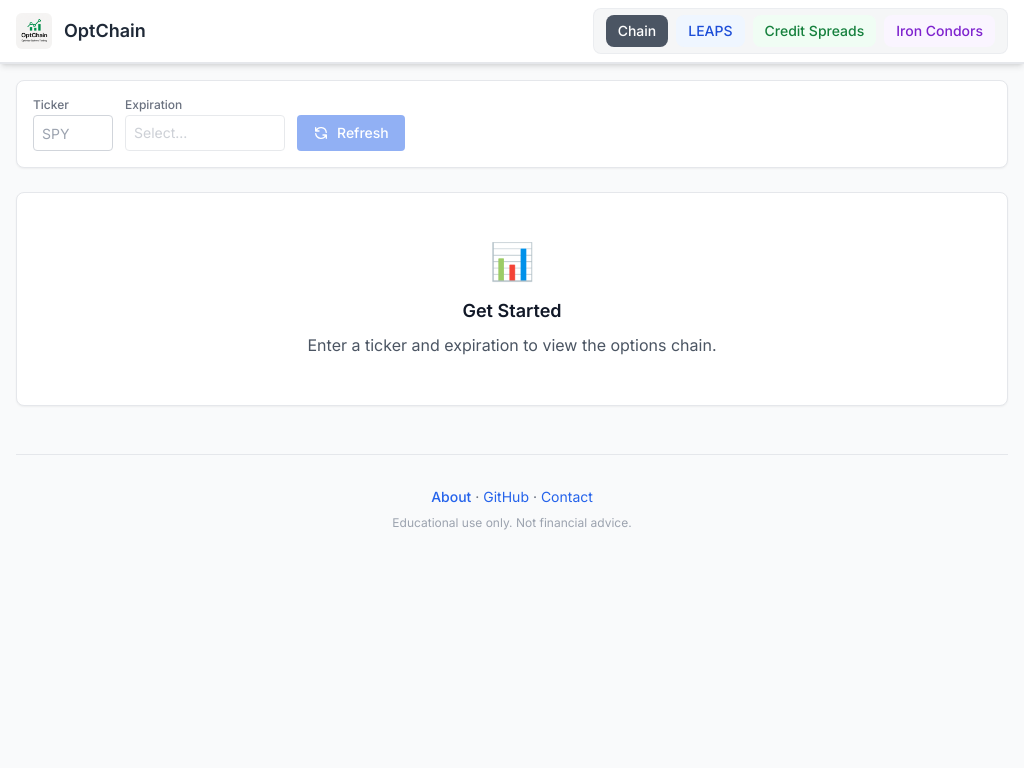
Test: ChainAnalysisPage - Ticker Input › should filter non-alphabetic characters
Type "spy123" into the field with placeholder "SPY" at (73, 133), box [33,115,113,151]
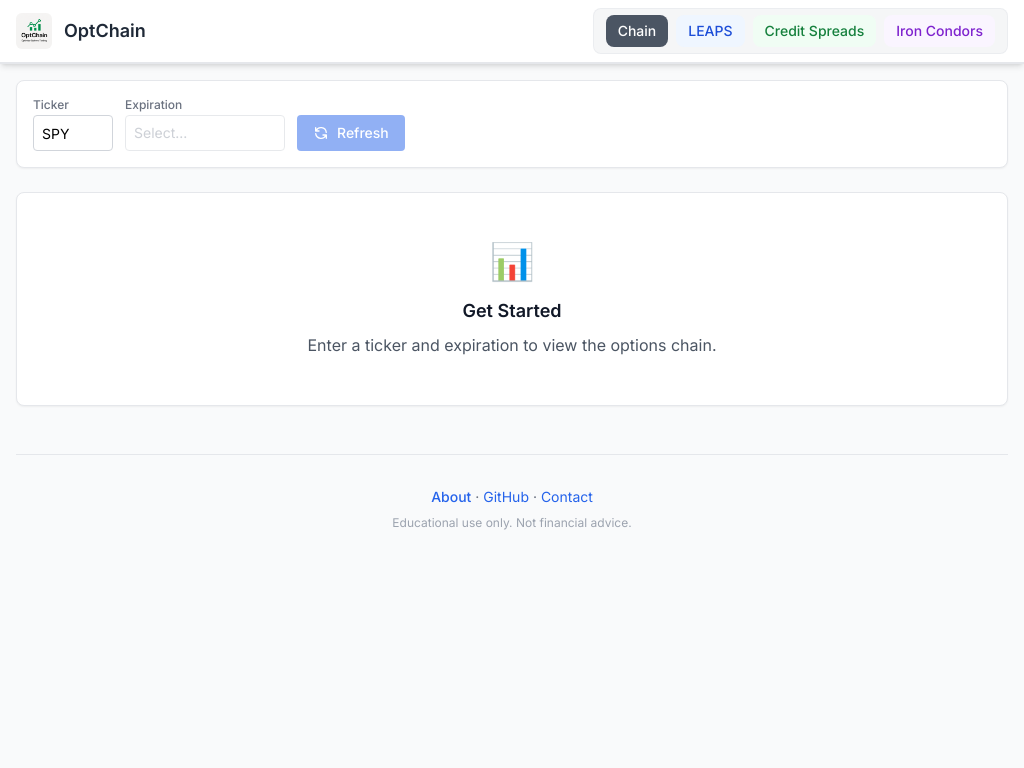
Expected: the field with placeholder "SPY" holds "SPY", [33,115,113,151]
